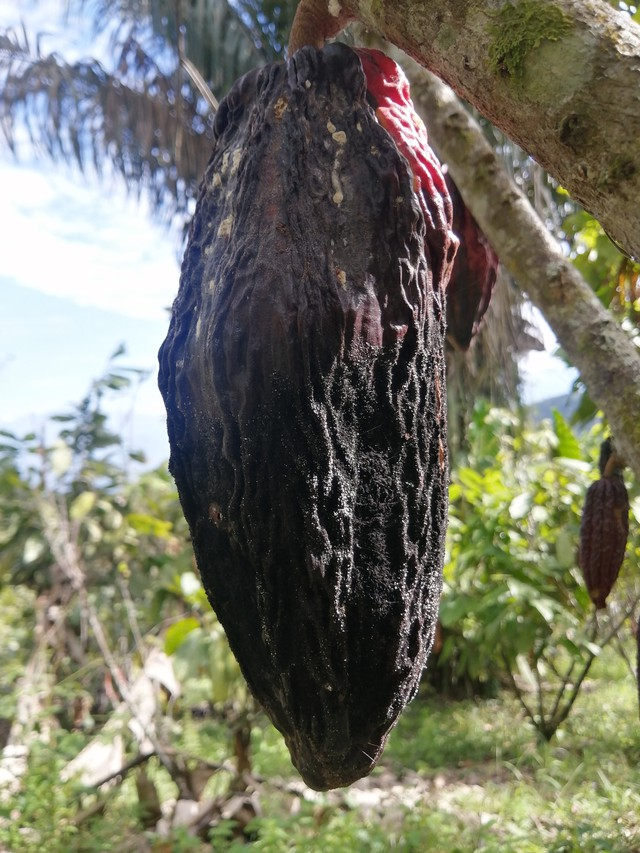moniliophthora roreri: (125, 32, 486, 816)
